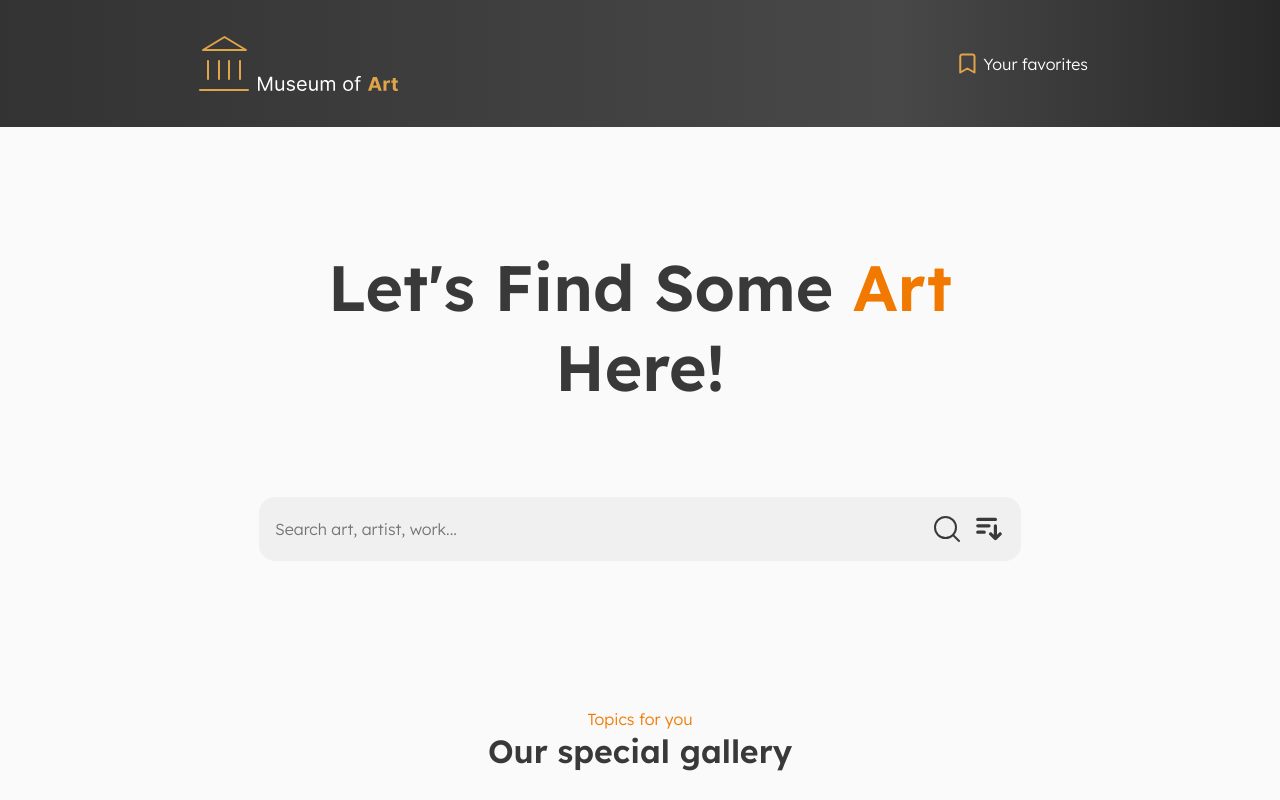
Test case: Home Component › displays no results message when search returns no items
The image size is (1280, 800).
In the field with placeholder "Search art, artist, work...": (598, 529) [275,519,921,539], type "testtextforinput"
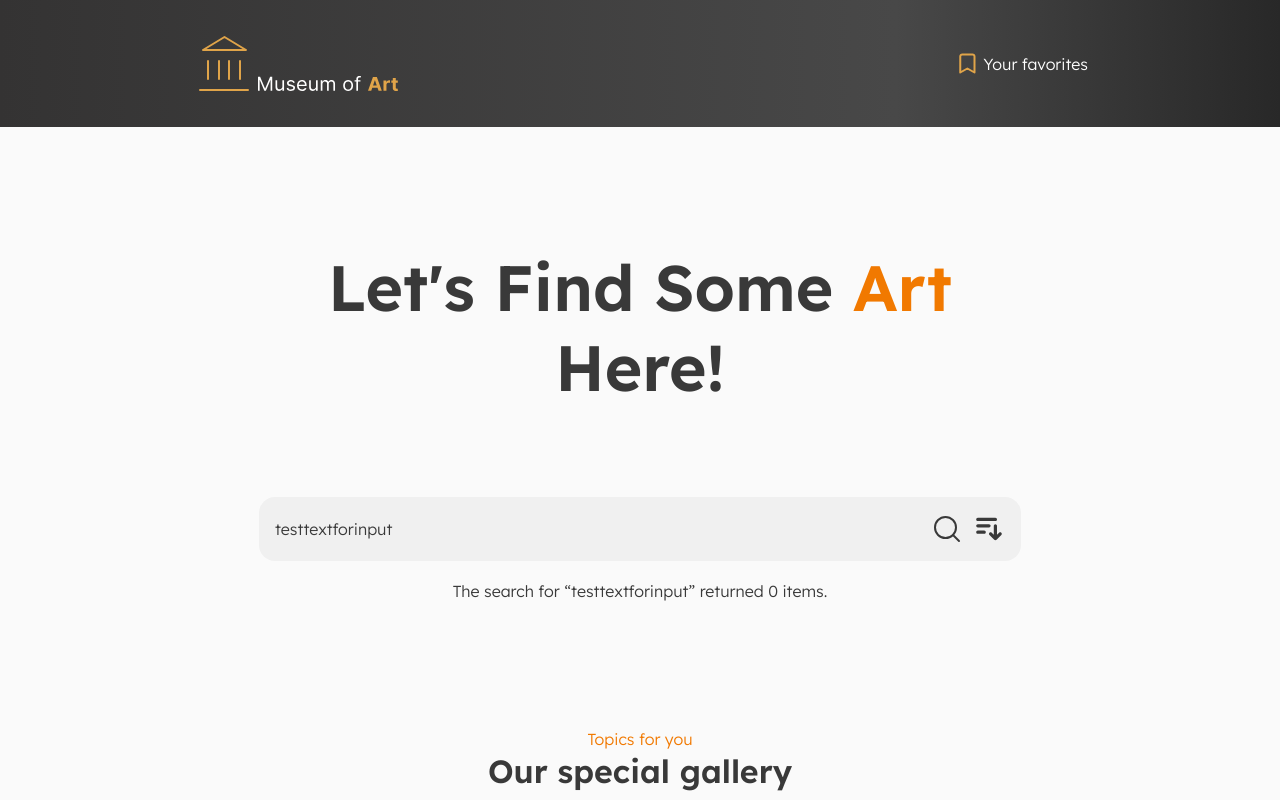
Now the text "The search for “testtextforinput” returned 0 items." is shown, box [453,581,827,601]
